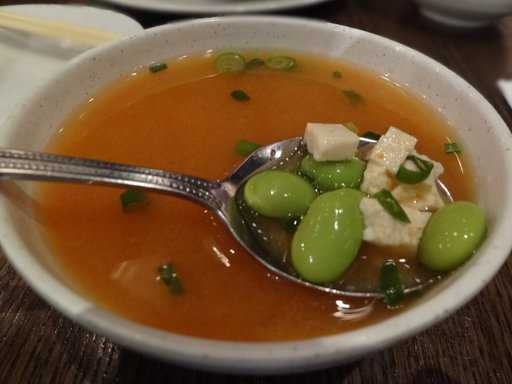soup: (15, 46, 450, 331)
